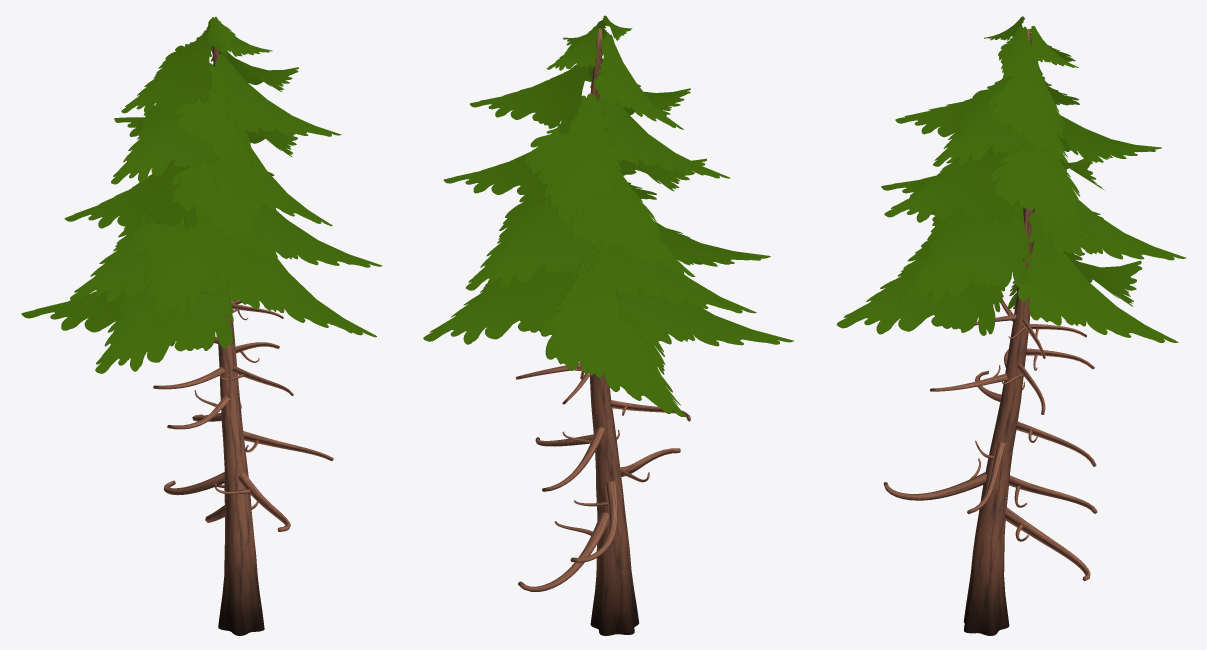
The model's file is Pine_3.glb.
The picture shows the model from 3 angles, left to right: view 1: azimuth 30°, elevation 25°; view 2: azimuth 150°, elevation 25°; view 3: azimuth 270°, elevation 25°; orthographic projection. The views are drawn at different scales.
Parts seen in each view (by area): view 1: Pine_3; view 2: Pine_3; view 3: Pine_3.
Part boxes in pixels (x1=…): Pine_3: x1=21, y1=16, x2=382, y2=635; Pine_3: x1=423, y1=15, x2=793, y2=635; Pine_3: x1=836, y1=16, x2=1186, y2=635.
Size of the model in its own units: 3.61 by 7.39 by 4.
Materials: 2 (2 with a texture image).
